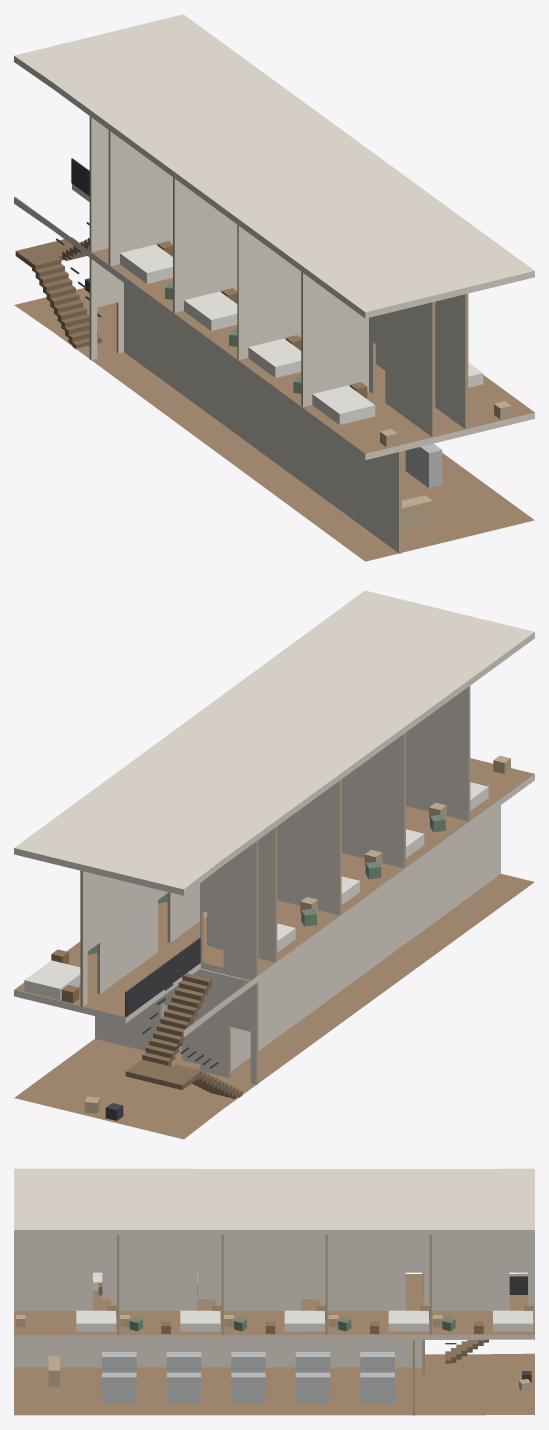
Rendered from interior.glb.
The picture shows the model from 3 angles, top to bottom: view 1: azimuth 30°, elevation 25°; view 2: azimuth 150°, elevation 25°; view 3: azimuth 270°, elevation 25°; orthographic projection. The views are drawn at different scales.
Visible parts, largest first — view 1: slabs, partitions, coarse-s1, stair, coarse-s0; view 2: slabs, partitions, stair, coarse-s1; view 3: slabs, partitions, coarse-s0, coarse-s1, stair.
Part boxes in pixels (x1=…): slabs: x1=14, y1=14, x2=534, y2=561; partitions: x1=89, y1=116, x2=468, y2=553; coarse-s1: x1=120, y1=241, x2=511, y2=447; stair: x1=15, y1=158, x2=101, y2=348; coarse-s0: x1=85, y1=278, x2=442, y2=529; slabs: x1=14, y1=590, x2=534, y2=1139; partitions: x1=80, y1=686, x2=500, y2=1084; stair: x1=125, y1=938, x2=242, y2=1098; coarse-s1: x1=24, y1=755, x2=510, y2=1003; slabs: x1=14, y1=1168, x2=534, y2=1415; partitions: x1=14, y1=1234, x2=534, y2=1415; coarse-s0: x1=48, y1=1352, x2=531, y2=1403; coarse-s1: x1=16, y1=1272, x2=533, y2=1333; stair: x1=445, y1=1276, x2=527, y2=1363.
Bounding box in the file's own units: 7.23 × 10.15 × 25.82.
